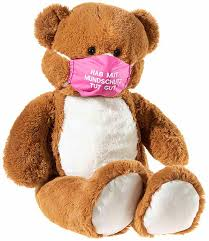teddy: (9, 1, 204, 236)
